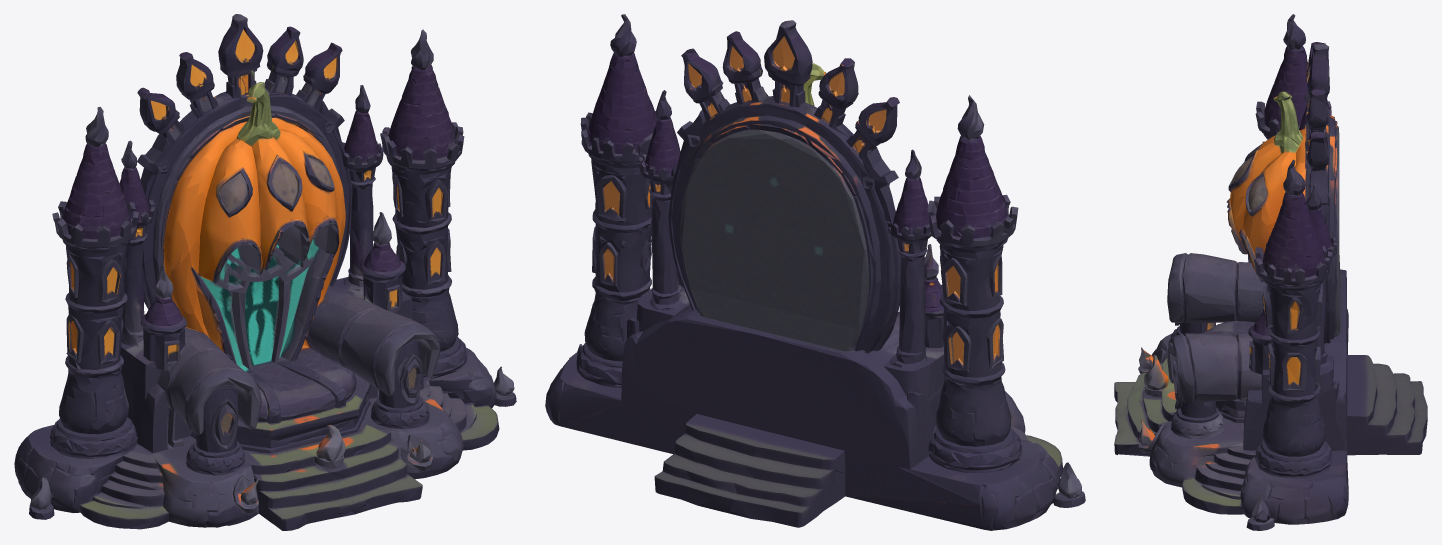
Rendered from hw-throne.glb.
The picture shows the model from 3 angles, left to right: view 1: azimuth 30°, elevation 25°; view 2: azimuth 150°, elevation 25°; view 3: azimuth 270°, elevation 25°; orthographic projection. The views are drawn at different scales.
Size of the model in its own units: 1.88 by 1.56 by 1.16.
1 material, 1 textured.
